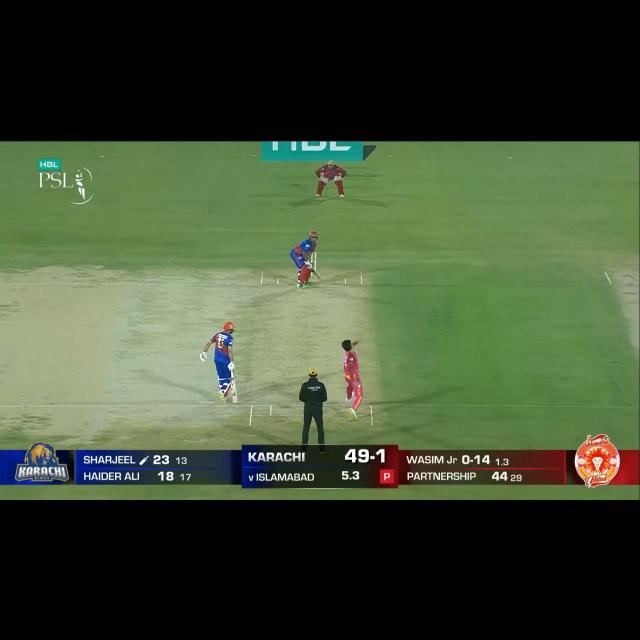bat: (230, 378, 240, 404), (311, 269, 324, 281)
toe: (232, 398, 238, 404), (318, 277, 324, 281)
